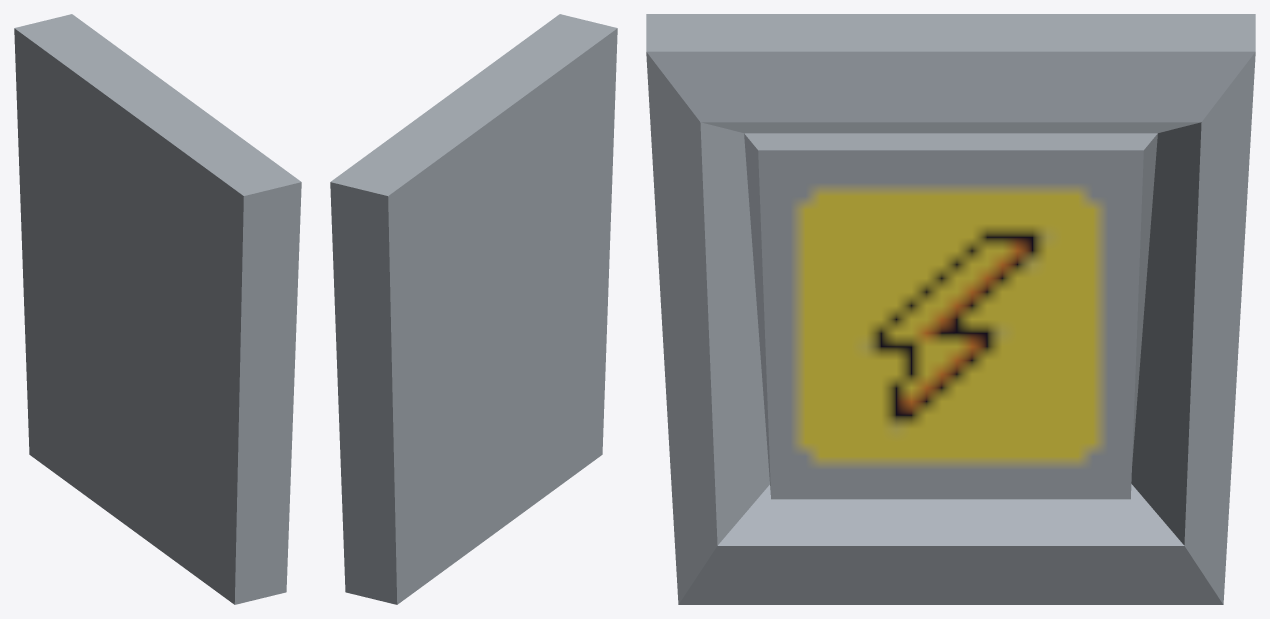
File: powergrid.fbx
The picture shows the model from 3 angles, left to right: view 1: azimuth 30°, elevation 25°; view 2: azimuth 150°, elevation 25°; view 3: azimuth 270°, elevation 25°; orthographic projection. The views are drawn at different scales.
Parts seen in each view (by area): view 1: Cube; view 2: Cube; view 3: Cube.
Part boxes in pixels (<box>): Cube: <box>14,14,301,604</box>; Cube: <box>330,14,617,604</box>; Cube: <box>646,14,1255,604</box>.
Size of the model in its own units: 11.75 by 70 by 69.62.
Materials: 1 (1 with a texture image).
